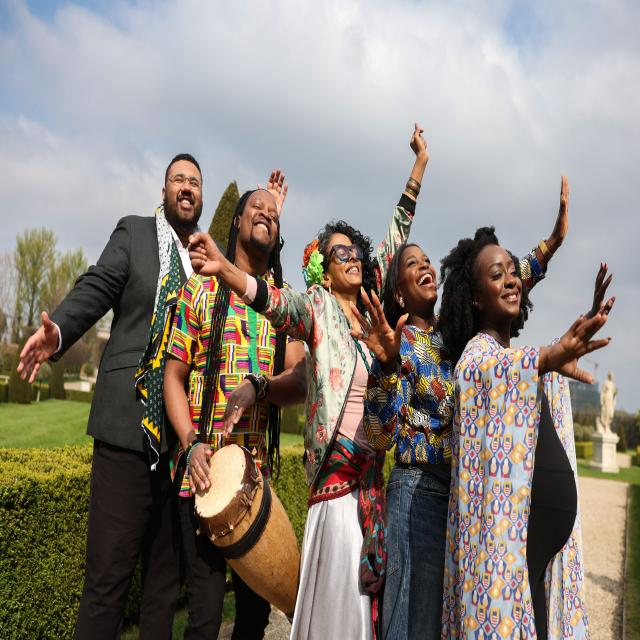sem_oculos: (164, 163, 212, 193), (467, 256, 522, 280), (394, 238, 436, 268), (324, 241, 368, 266), (246, 194, 285, 221)
